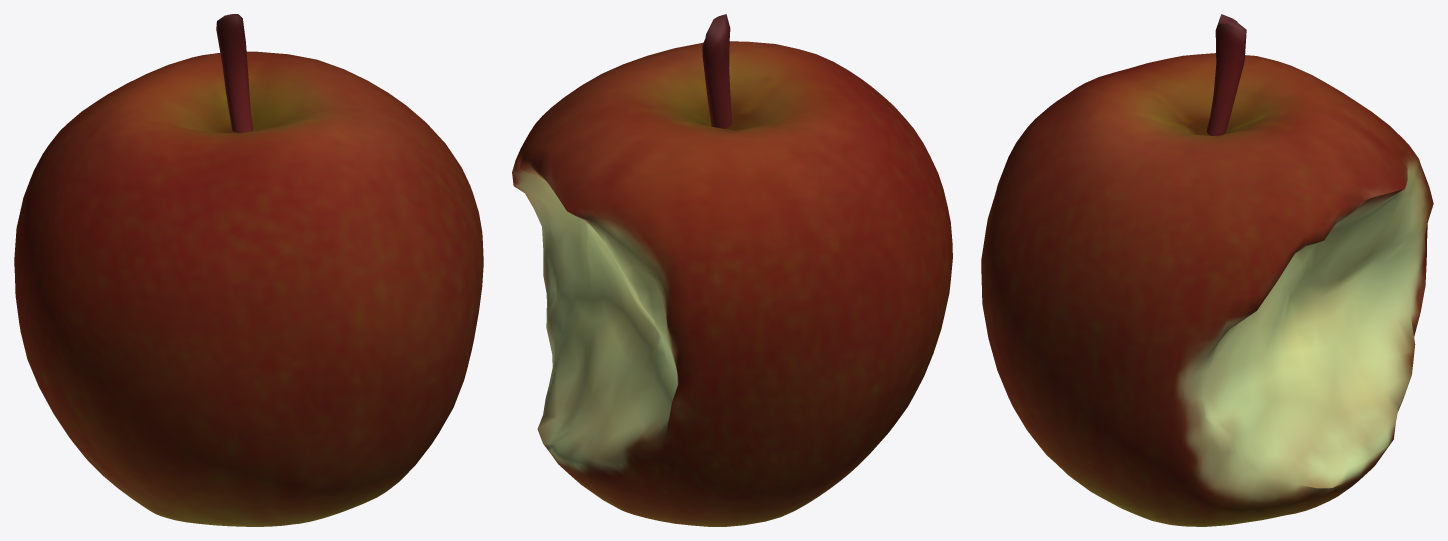
Rendered from apple_bite.fbx.
The picture shows the model from 3 angles, left to right: view 1: azimuth 30°, elevation 25°; view 2: azimuth 150°, elevation 25°; view 3: azimuth 270°, elevation 25°; orthographic projection. The views are drawn at different scales.
Visible parts, largest first — view 1: apple_ganwed; view 2: apple_ganwed; view 3: apple_ganwed.
Part boxes in pixels (box(x1,y1,x2,y2)): apple_ganwed: box(14, 14, 483, 526); apple_ganwed: box(512, 14, 952, 526); apple_ganwed: box(981, 14, 1433, 526).
Size of the model in its own units: 5.22 by 5.98 by 5.17.
